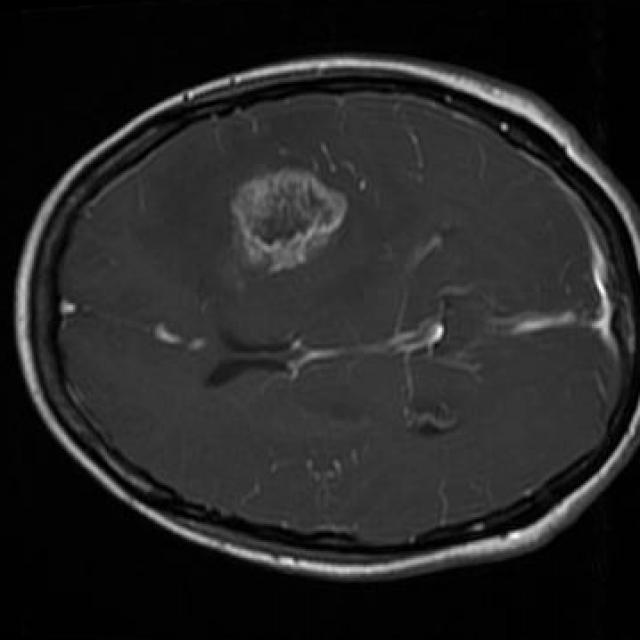glioma: (232, 169, 351, 282)
